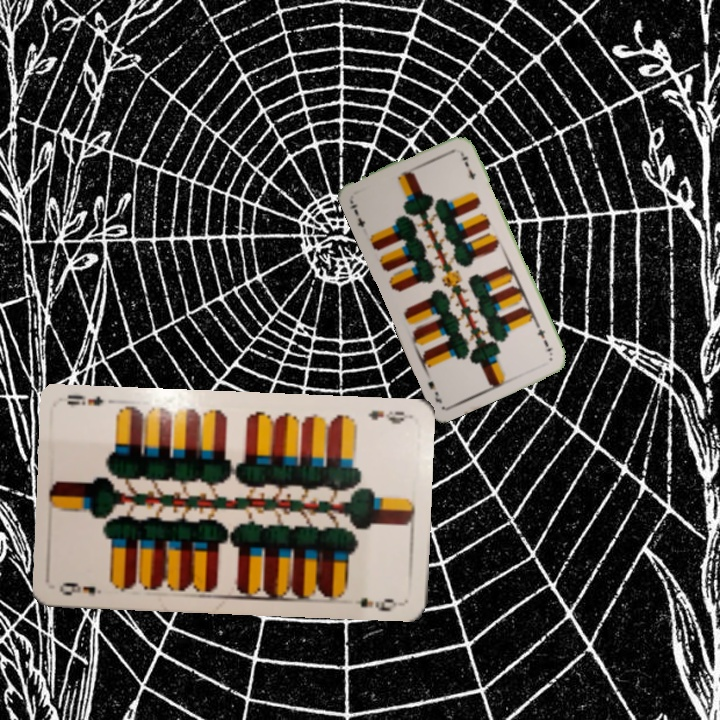E7: (533, 320, 555, 358), (345, 200, 368, 230)
E9: (364, 406, 411, 426), (55, 579, 104, 598)
